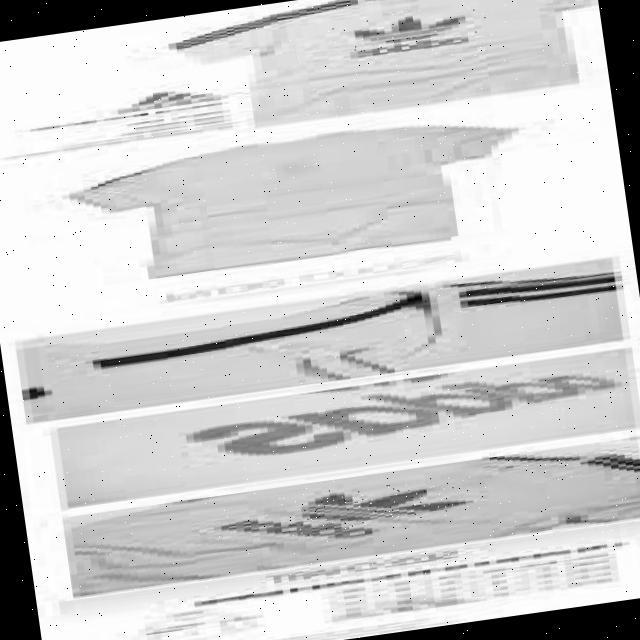Adidas: (271, 470, 483, 540), (316, 0, 498, 57)
